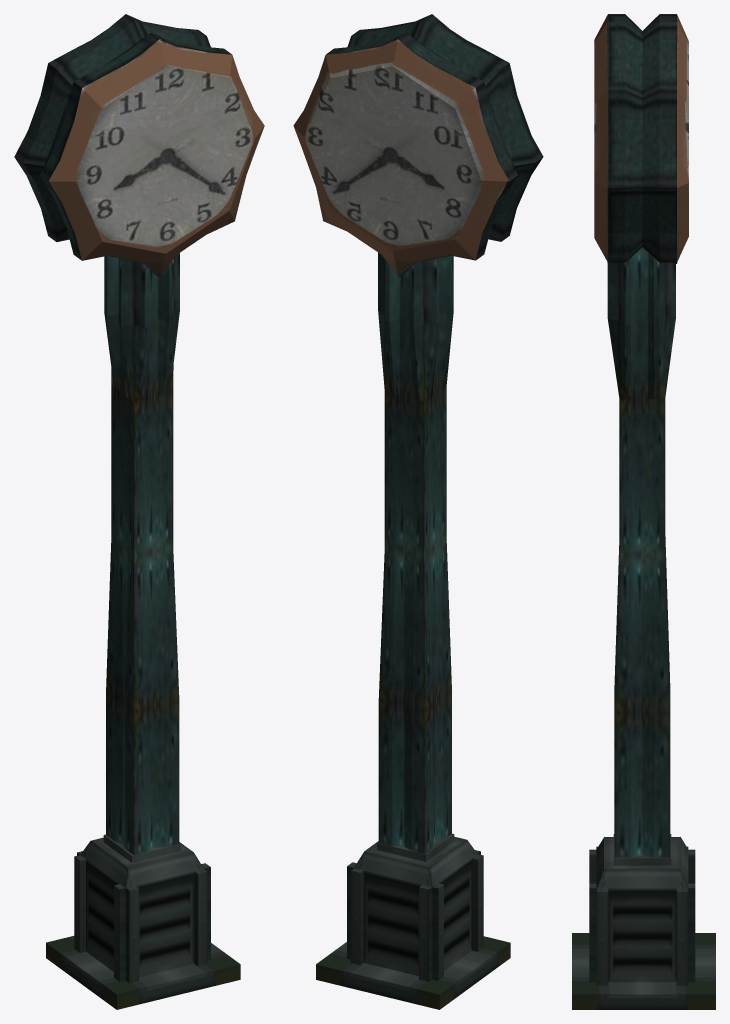
The model's file is outland_clock.fbx.
3 renders of one model, left to right at view 1: azimuth 30°, elevation 25°; view 2: azimuth 150°, elevation 25°; view 3: azimuth 270°, elevation 25°, orthographic.
Parts seen in each view (by area): view 1: Cylinder; view 2: Cylinder; view 3: Cylinder.
Part boxes in pixels (x1,y1,x2,y2): Cylinder: [14, 14, 264, 1009]; Cylinder: [293, 14, 543, 1009]; Cylinder: [572, 14, 715, 1009].
Size of the model in its own units: 110 by 459 by 62.6.
Materials: 3 (3 with a texture image).
